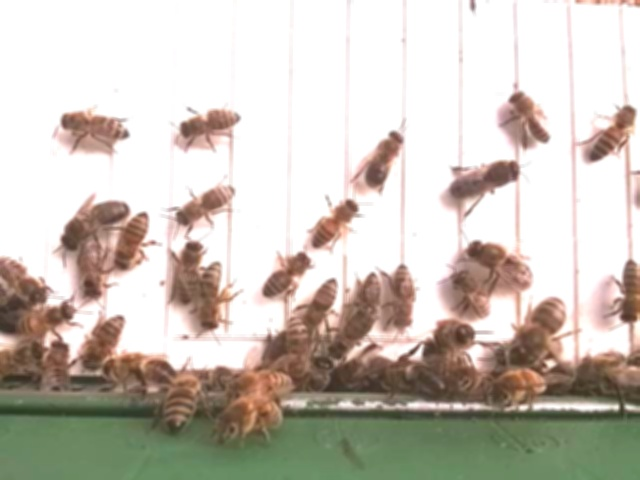Drone: (512, 295, 570, 369), (61, 196, 131, 251), (447, 157, 522, 199), (362, 127, 406, 191)
Worker: (466, 239, 537, 291), (586, 102, 638, 163), (175, 182, 238, 229), (326, 308, 375, 362), (310, 195, 358, 248), (57, 108, 134, 141), (508, 89, 554, 144), (177, 104, 243, 142), (261, 251, 311, 299), (83, 311, 126, 366), (195, 260, 227, 332), (18, 300, 77, 337), (115, 210, 151, 270), (174, 237, 206, 304), (282, 314, 313, 383), (390, 259, 419, 330), (454, 270, 494, 319), (165, 368, 194, 432), (77, 239, 105, 302), (614, 260, 640, 323), (307, 275, 338, 327), (359, 269, 382, 319)
